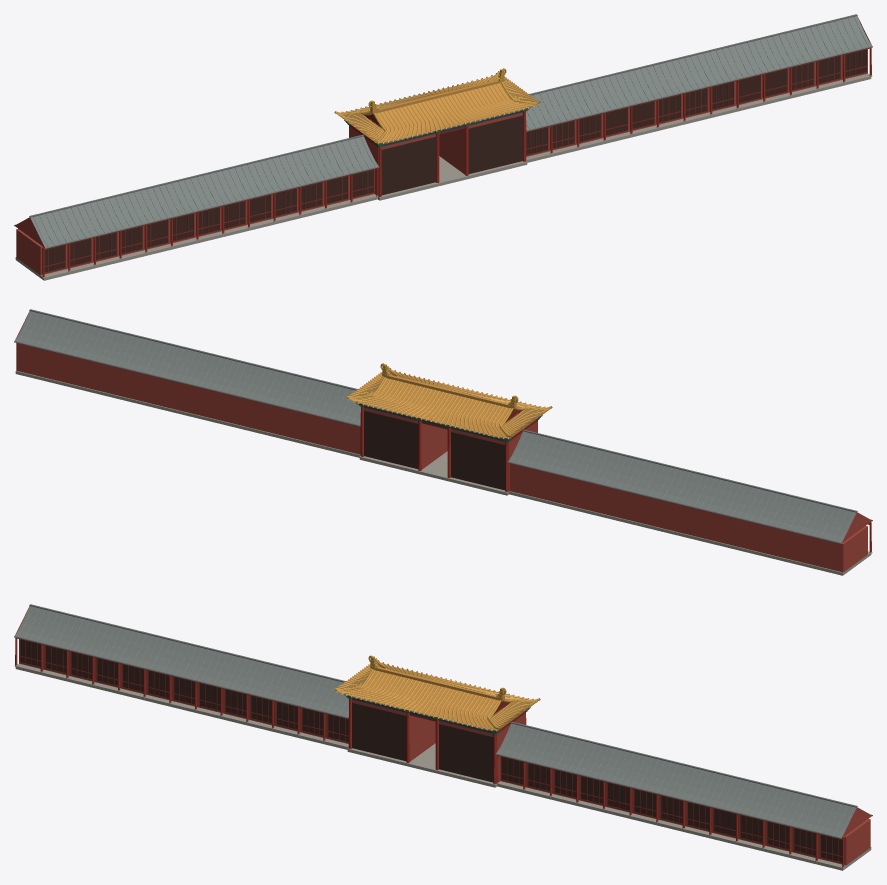
The model's file is axis-sw-preview.glb.
3 views of the same model, one above another, from view 1: azimuth 30°, elevation 25°; view 2: azimuth 150°, elevation 25°; view 3: azimuth 330°, elevation 25° (orthographic).
Parts seen in each view (by area): view 1: axis-sw grayRoof, axis-sw wood, axis-sw redDark, axis-sw stone, axis-sw wall, axis-sw roof, axis-sw grayTile, axis-sw red, axis-sw tile, axis-sw grayRidge, axis-sw gold; view 2: axis-sw grayRoof, axis-sw wall, axis-sw roof, axis-sw wood, axis-sw grayTile, axis-sw stone, axis-sw tile, axis-sw grayRidge, axis-sw red, axis-sw gold; view 3: axis-sw grayRoof, axis-sw wood, axis-sw stone, axis-sw redDark, axis-sw wall, axis-sw roof, axis-sw grayTile, axis-sw red, axis-sw tile, axis-sw grayRidge, axis-sw gold.
Part boxes in pixels (x1,y1,x2,y2): axis-sw grayRoof: (30,16,871,247); axis-sw wood: (44,49,866,272); axis-sw redDark: (42,49,867,273); axis-sw stone: (15,73,872,280); axis-sw wall: (14,16,871,275); axis-sw roof: (337,75,537,142); axis-sw grayTile: (33,16,869,246); axis-sw red: (42,47,871,276); axis-sw tile: (336,73,538,144); axis-sw grayRidge: (14,14,872,248); axis-sw gold: (334,68,540,143); axis-sw grayRoof: (15,311,856,542); axis-sw wall: (15,311,872,572); axis-sw roof: (349,370,549,437); axis-sw wood: (364,410,505,490); axis-sw grayTile: (17,311,853,541); axis-sw stone: (15,370,872,575); axis-sw tile: (348,368,550,439); axis-sw grayRidge: (14,309,872,543); axis-sw red: (360,406,871,551); axis-sw gold: (346,363,552,438); axis-sw grayRoof: (15,606,856,837); axis-sw wood: (20,639,842,862); axis-sw stone: (14,663,871,870); axis-sw redDark: (19,639,844,863); axis-sw wall: (15,606,872,865); axis-sw roof: (337,662,537,730); axis-sw grayTile: (17,606,853,836); axis-sw red: (15,637,844,866); axis-sw tile: (336,660,538,731); axis-sw grayRidge: (14,604,872,838); axis-sw gold: (334,655,540,730).
Bounding box in the file's own units: 1.3 × 0.1297 × 0.116.
